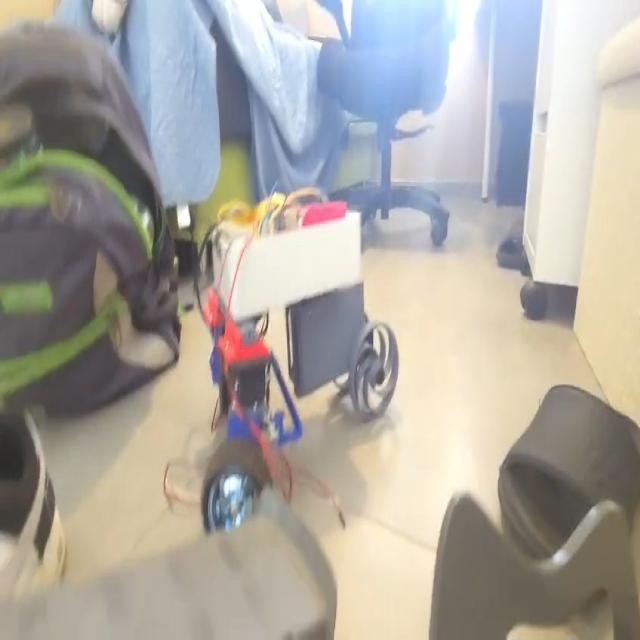Robot: (198, 189, 400, 536)
